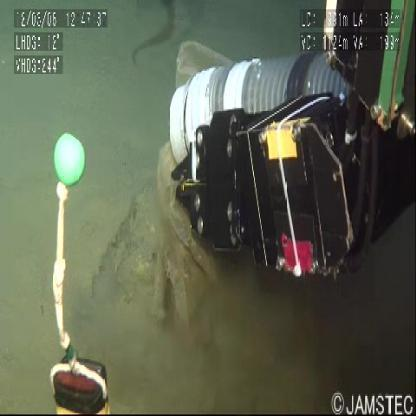Rác: (95, 150, 224, 338), (177, 42, 233, 79)
